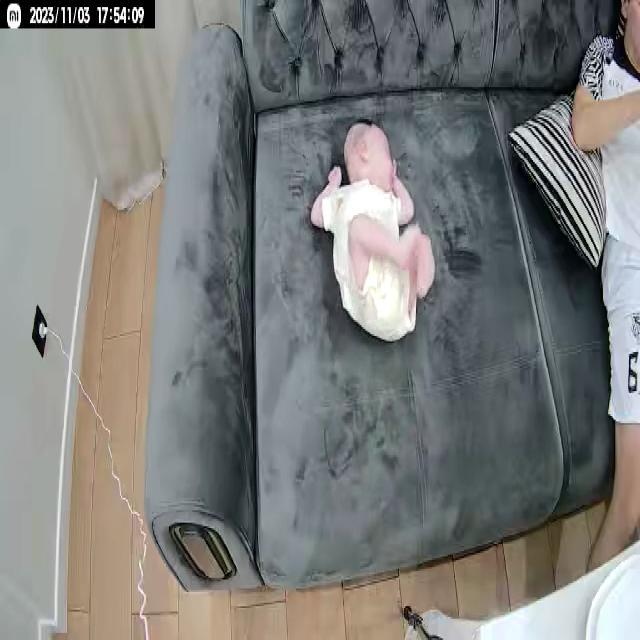baby: (309, 114, 436, 345)
